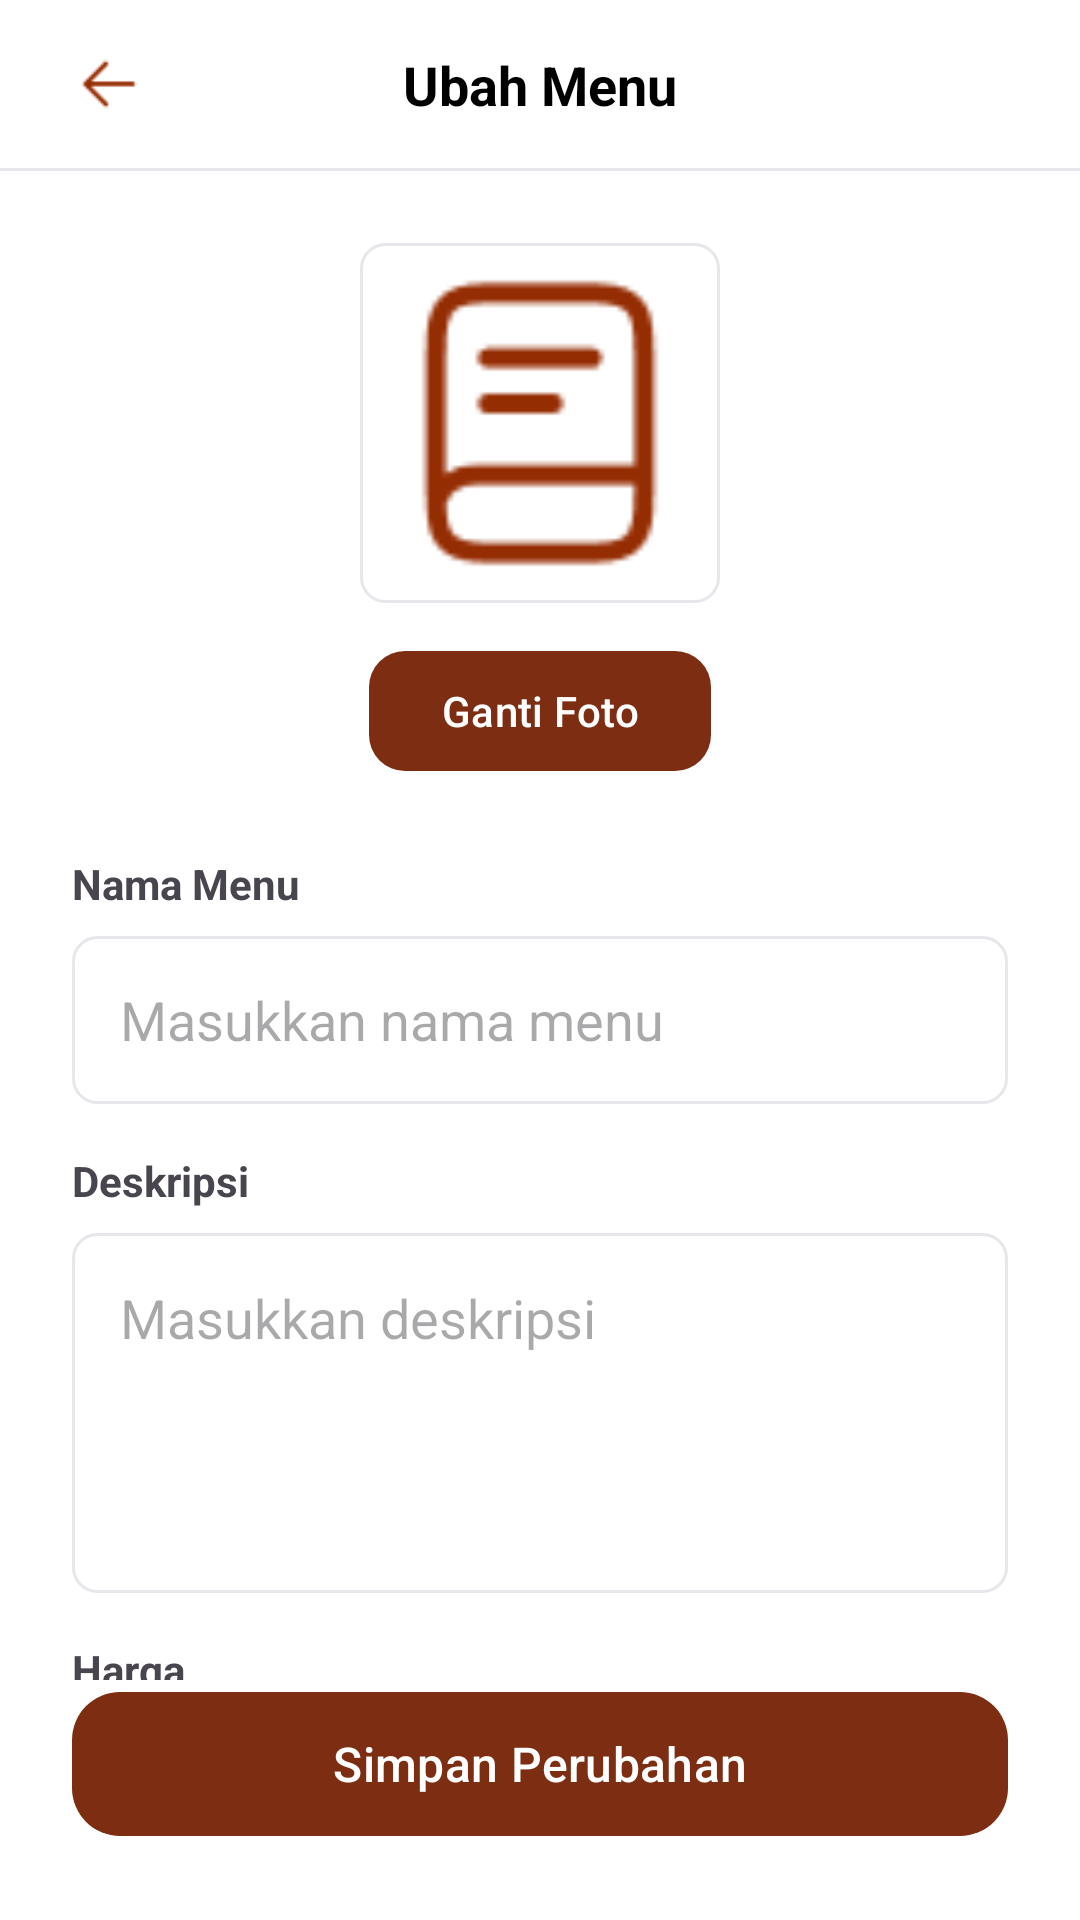

Icons on this 1080px×1920px Android screen, each with the point to tap as (x,y):
back: (109,84)
